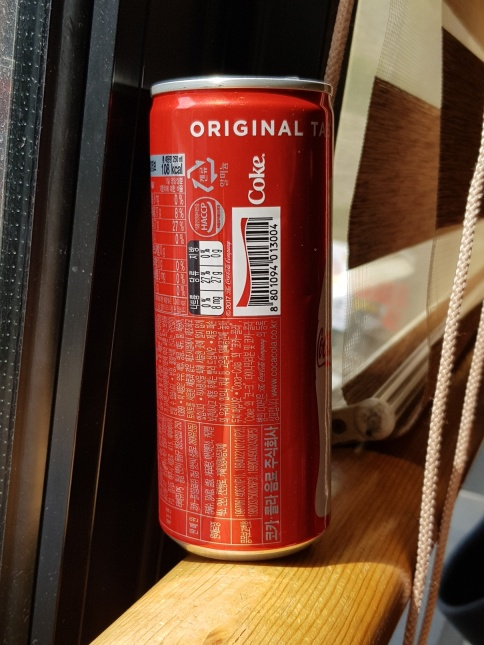Can: (145, 73, 337, 569)
